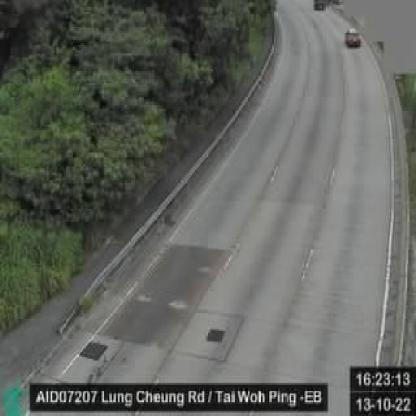Car: (346, 29, 363, 48)
